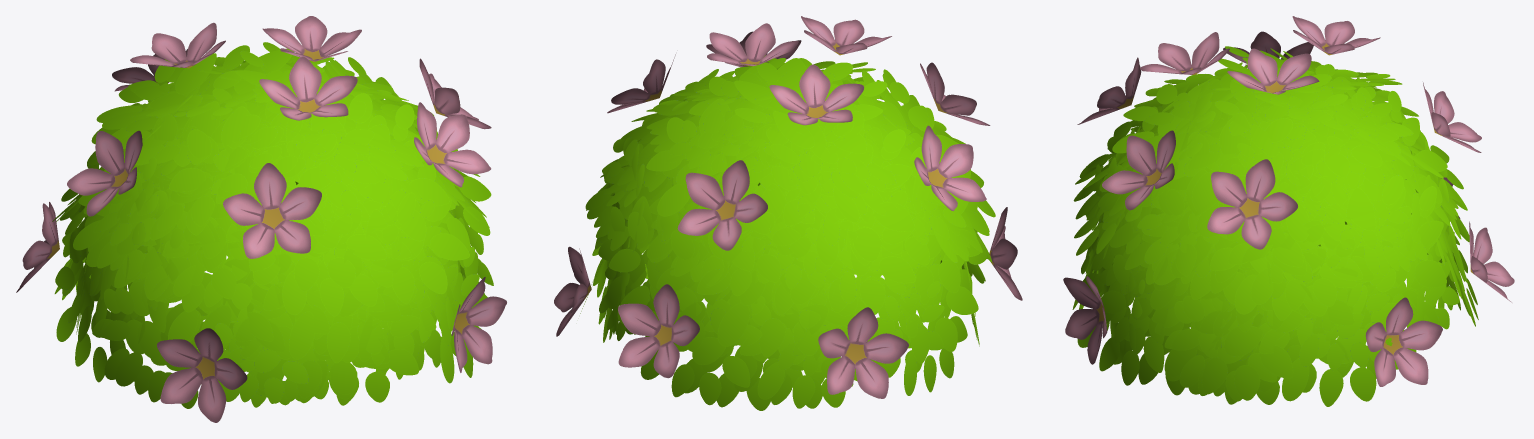
The model's file is Bush_Flowers.glb.
3 renders of one model, left to right at view 1: azimuth 30°, elevation 25°; view 2: azimuth 150°, elevation 25°; view 3: azimuth 270°, elevation 25°, orthographic. The views are drawn at different scales.
Visible parts, largest first — view 1: Bush_Flowers; view 2: Bush_Flowers; view 3: Bush_Flowers.
Part boxes in pixels (left/top/right/bottom): Bush_Flowers: left=16, top=16, right=506, bottom=422; Bush_Flowers: left=554, top=16, right=1022, bottom=410; Bush_Flowers: left=1063, top=16, right=1514, bottom=406.
Bounding box in the file's own units: 1.09 × 0.7586 × 1.11.
2 materials, 2 textured.
